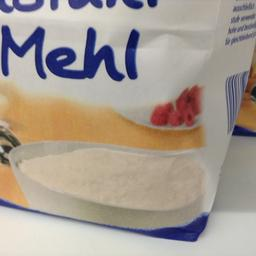flour: (0, 0, 251, 240)
